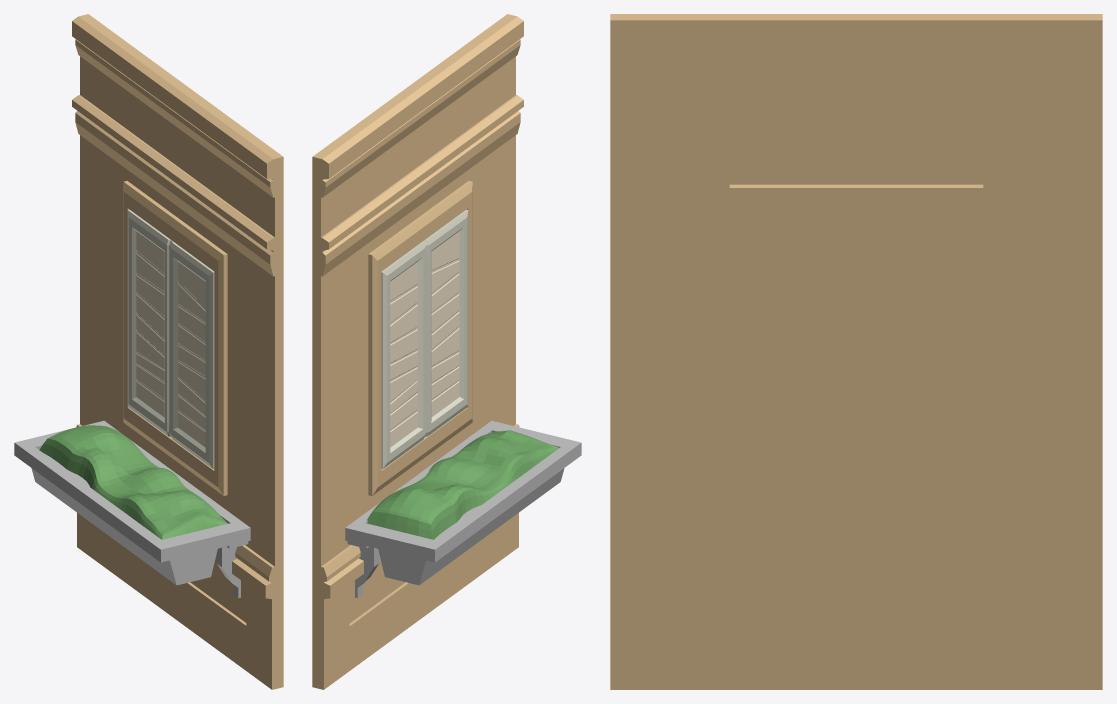
File: 4_WallHole_2_B.fbx
3 views of the same model, side by side, from view 1: azimuth 30°, elevation 25°; view 2: azimuth 150°, elevation 25°; view 3: azimuth 270°, elevation 25° (orthographic). The views are drawn at different scales.
Parts seen in each view (by area): view 1: WallHole_2_B; view 2: WallHole_2_B; view 3: WallHole_2_B.
Boxes of the visible parts, box(x1,y1,x2,y2) form: WallHole_2_B: box(14, 14, 283, 689); WallHole_2_B: box(312, 14, 581, 689); WallHole_2_B: box(610, 14, 1102, 689).
Bounding box in the file's own units: 61.65 × 200 × 300.
